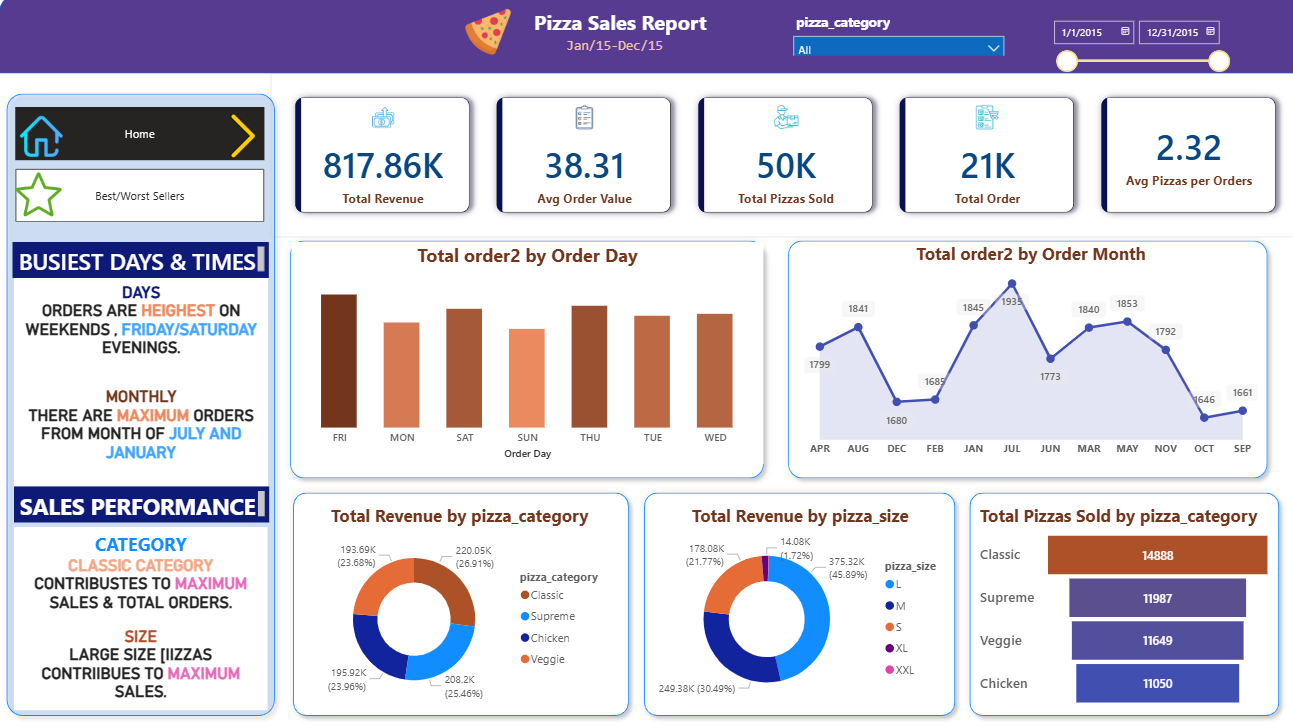

This screenshot's page, from the dashboard's own definition file:
{"tool":"powerbi","page":{"name":"Home","canvas":[1543,880],"ordinal":0},"visuals":[{"type":"cardVisual","fields":{"Data":["pizza_sales.Total Revenue","pizza_sales.Avg Order Value","pizza_sales.Total Pizzas Sold","pizza_sales.Total Order","pizza_sales.Avg Pizzas per Orders"]},"box":[321.3,94.9,1223,195.3],"z":0},{"type":"shape","box":[0,0,1543.5,95.5],"z":1000},{"type":"textbox","box":[408.9,12.8,655.3,67.5],"z":2000},{"type":"textbox","box":[649.5,47.9,161.5,31.9],"z":3000},{"type":"image","box":[533.9,17,92.4,56.6],"z":4000},{"type":"shape","box":[336.9,284.9,579.9,300],"z":5000},{"type":"columnChart","fields":{"Category":["pizza_sales (2).Order Date"],"Y":["pizza_sales (2).Total order2"]},"box":[346.9,295,559.8,263.1],"z":6000},{"type":"shape","box":[926.8,284.9,586.6,300],"z":7000},{"type":"areaChart","fields":{"Y":["pizza_sales (2).Total order2"],"Category":["pizza_sales (2).Order Month"]},"box":[950,295.3,547.9,263.3],"z":8000},{"type":"shape","box":[339.5,584.1,416.2,282.9],"z":9000},{"type":"shape","box":[755.7,584.1,387,282.9],"z":10000},{"type":"shape","box":[1142.7,584.1,385.1,282.9],"z":11000},{"type":"donutChart","fields":{"Category":["pizza_sales (2).pizza_category"],"Y":["pizza_sales.Total Revenue"]},"box":[361.4,606,370.5,244.6],"z":12000},{"type":"donutChart","fields":{"Y":["pizza_sales.Total Revenue"],"Category":["pizza_sales (2).pizza_size"]},"box":[764.8,606,370.5,244.6],"z":13000},{"type":"funnel","fields":{"Category":["pizza_sales (2).pizza_category"],"Y":["pizza_sales.Total Pizzas Sold"]},"box":[1157.3,606,355.9,244.6],"z":14000},{"type":"shape","box":[0,110.3,336.2,756.1],"z":15000},{"type":"textbox","box":[16.2,295.6,303.7,42.5],"z":16000},{"type":"textbox","box":[18.2,338.1,301.7,247],"z":17000},{"type":"textbox","box":[17.8,585.3,302.4,42.7],"z":18000},{"type":"textbox","box":[17.8,633.3,300.7,217],"z":19000},{"type":"slicer","fields":{"Values":["pizza_sales (2).pizza_category"]},"box":[932.7,18.3,270.1,56.6],"z":20000},{"type":"slicer","fields":{"Values":["pizza_sales (2).order_date"]},"box":[1237.6,23.7,230,71.2],"z":21000},{"type":"pageNavigator","box":[20.2,135.6,295.6,137.7],"z":22000},{"type":"image","box":[263.2,135.6,52.6,68.8],"z":23000},{"type":"image","box":[20.2,192.3,54.7,93.1],"z":24000},{"type":"image","box":[24.3,117.4,50.6,105.3],"z":25000}]}

Visuals, with their boxes in screenshot pixels (x1, y1, x2, y2), scaled from the page's 1543x880 canvas onto the 1293x727 screenshot:
cardVisual - pizza_sales.Total Revenue x pizza_sales.Avg Order Value: left=269, top=78, right=1292, bottom=240
shape: left=0, top=0, right=1292, bottom=79
textbox: left=343, top=11, right=892, bottom=66
textbox: left=544, top=40, right=680, bottom=66
image: left=447, top=14, right=525, bottom=61
shape: left=282, top=235, right=768, bottom=483
columnChart - pizza_sales (2).Order Date x pizza_sales (2).Total order2: left=291, top=244, right=760, bottom=461
shape: left=777, top=235, right=1268, bottom=483
areaChart - pizza_sales (2).Total order2 x pizza_sales (2).Order Month: left=796, top=244, right=1255, bottom=461
shape: left=284, top=483, right=633, bottom=716
shape: left=633, top=483, right=958, bottom=716
shape: left=958, top=483, right=1280, bottom=716
donutChart - pizza_sales (2).pizza_category x pizza_sales.Total Revenue: left=303, top=501, right=613, bottom=703
donutChart - pizza_sales.Total Revenue x pizza_sales (2).pizza_size: left=641, top=501, right=951, bottom=703
funnel - pizza_sales (2).pizza_category x pizza_sales.Total Pizzas Sold: left=970, top=501, right=1268, bottom=703
shape: left=0, top=91, right=282, bottom=716
textbox: left=14, top=244, right=268, bottom=279
textbox: left=15, top=279, right=268, bottom=483
textbox: left=15, top=484, right=268, bottom=519
textbox: left=15, top=523, right=267, bottom=702
slicer - pizza_sales (2).pizza_category: left=782, top=15, right=1008, bottom=62
slicer - pizza_sales (2).order_date: left=1037, top=20, right=1230, bottom=78
pageNavigator: left=17, top=112, right=265, bottom=226
image: left=221, top=112, right=265, bottom=169
image: left=17, top=159, right=63, bottom=236
image: left=20, top=97, right=63, bottom=184
